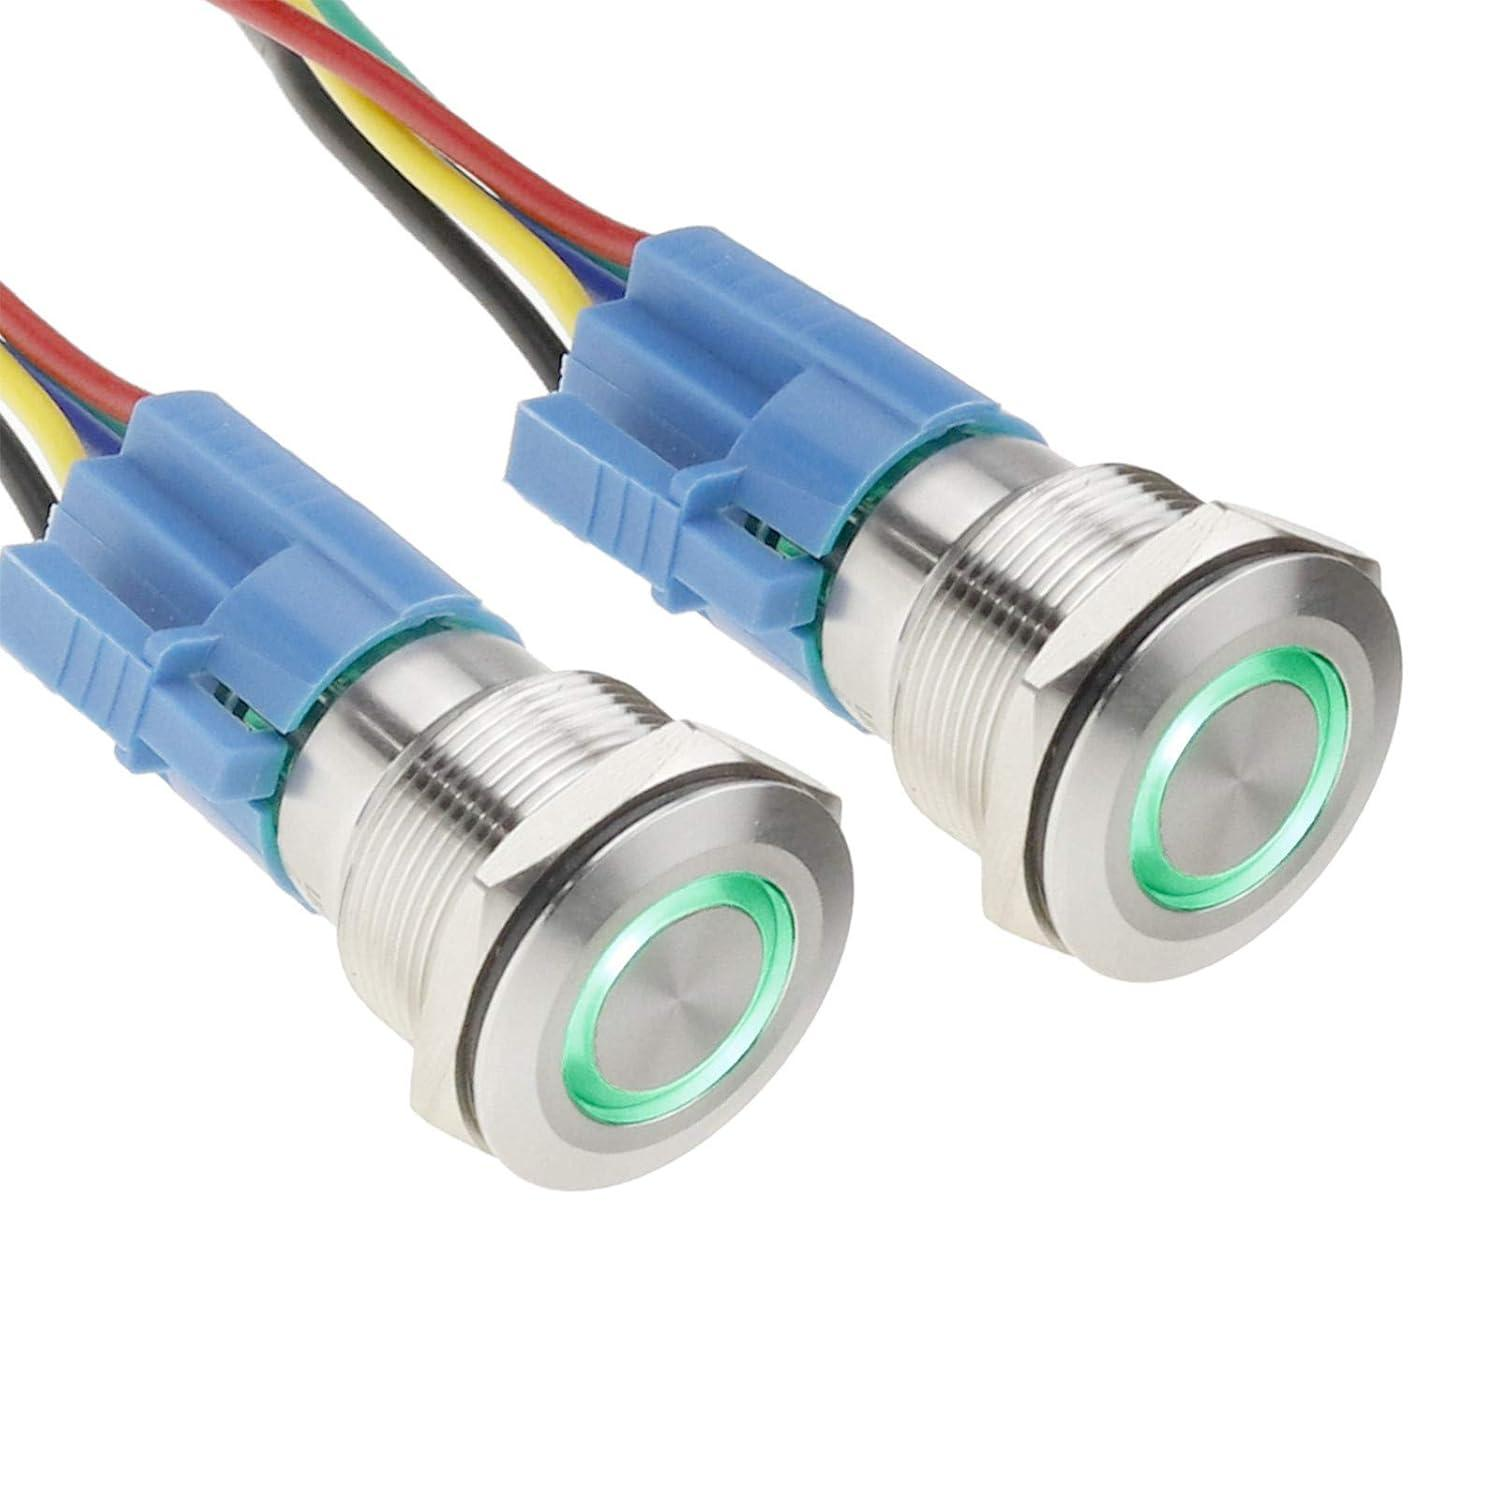pushbutton: (5, 0, 1424, 1220)
